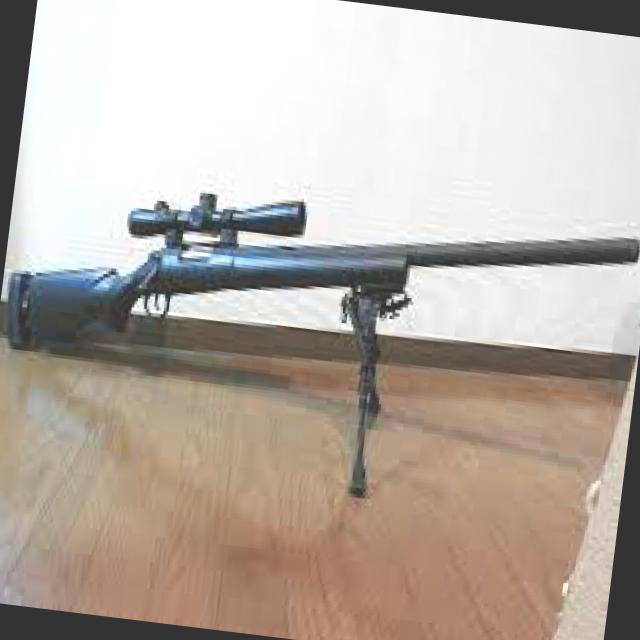long weapon: (0, 114, 639, 516)
